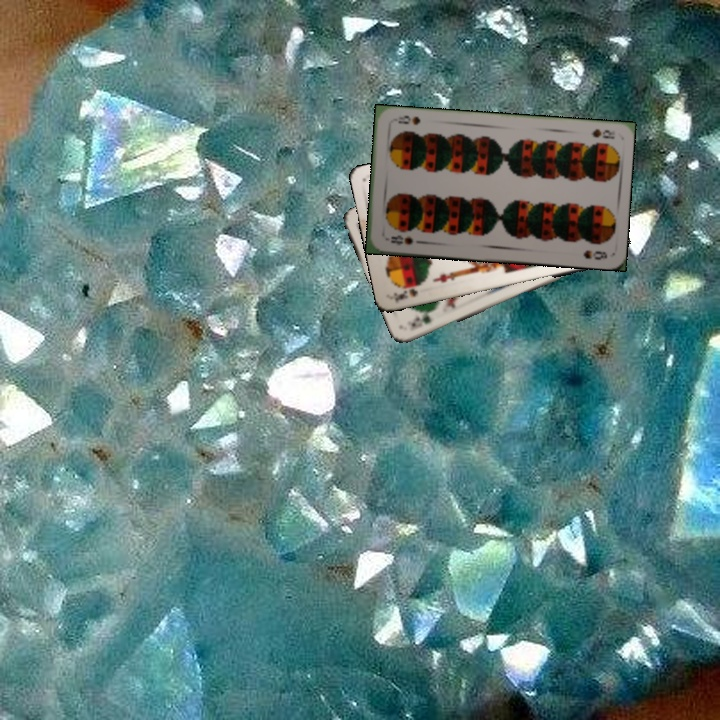GK: (407, 311, 434, 330)
S8: (587, 125, 618, 141), (387, 231, 415, 248)
SK: (389, 280, 424, 305)
